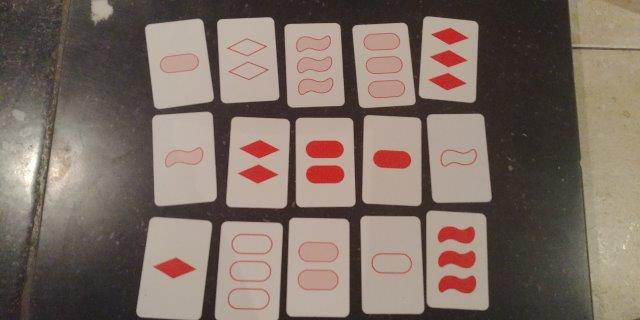1EP: (364, 219, 416, 310)
1EW: (433, 117, 483, 199)
1FD: (151, 222, 200, 315)
1FP: (367, 118, 418, 200)
1HP: (155, 26, 203, 101)
1HW: (157, 118, 211, 200)
2ED: (222, 23, 274, 97)
2FD: (234, 122, 283, 206)
2FP: (299, 122, 351, 204)
2HP: (292, 221, 345, 313)
3EP: (224, 224, 277, 320)
3FD: (425, 22, 474, 97)
3FW: (429, 214, 484, 308)
3HP: (360, 27, 407, 105)
3HW: (288, 25, 340, 103)
